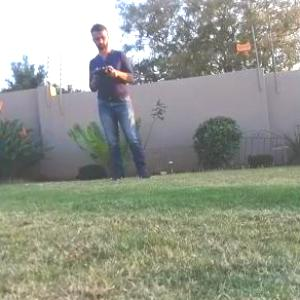follow: (85, 13, 158, 185)
